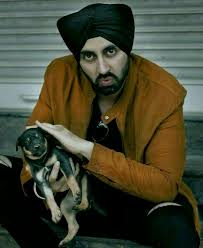helmet: (60, 2, 144, 97)
